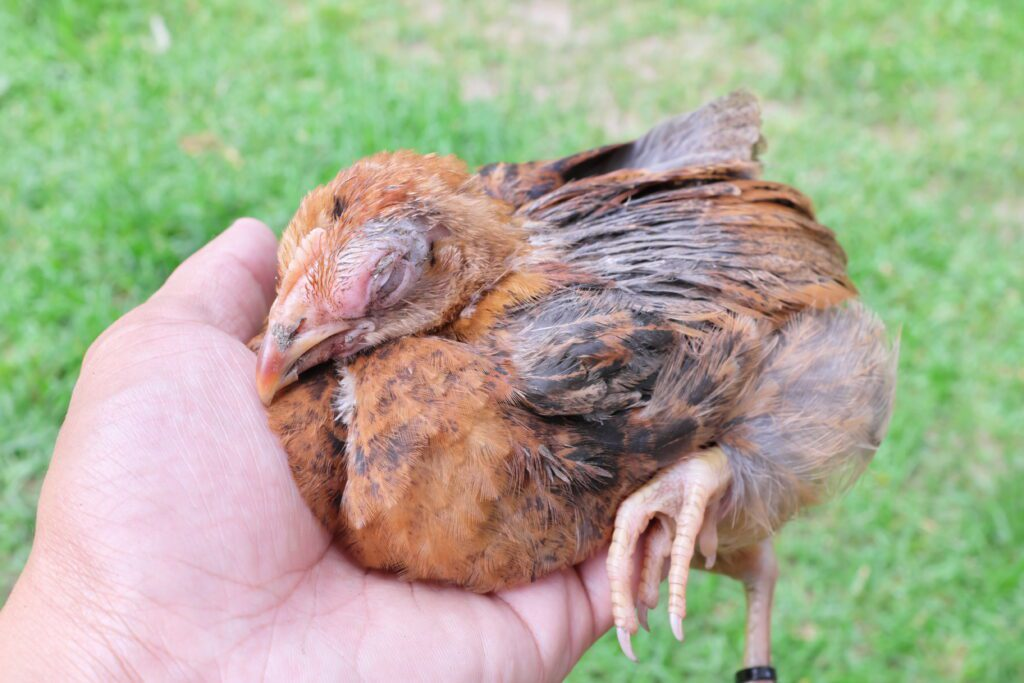Unhealthy: (248, 103, 887, 676)
